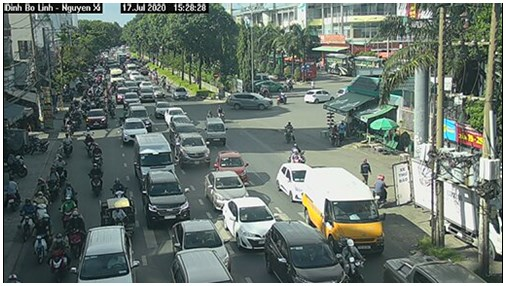di_bo: (359, 154, 372, 187)
xe_ba_gac: (100, 198, 138, 236)
xe_hoi: (265, 222, 347, 284), (81, 226, 138, 283), (170, 218, 231, 269), (222, 197, 277, 250), (142, 171, 191, 227), (202, 171, 249, 210), (273, 161, 306, 203), (215, 149, 250, 185), (176, 133, 212, 167), (227, 91, 275, 112), (202, 116, 229, 148), (123, 117, 147, 142), (85, 108, 108, 130), (303, 87, 332, 104)
xe_khach: (304, 167, 386, 256), (130, 133, 175, 180)
xe_may: (342, 238, 368, 283), (67, 210, 88, 258), (49, 232, 68, 280), (33, 214, 51, 263), (86, 162, 106, 199), (58, 195, 78, 228), (19, 198, 34, 240), (34, 192, 51, 221), (90, 141, 106, 171), (54, 154, 68, 187), (47, 166, 59, 199), (79, 131, 93, 159), (112, 176, 128, 200), (289, 141, 305, 162), (283, 119, 294, 147), (33, 176, 46, 196)
